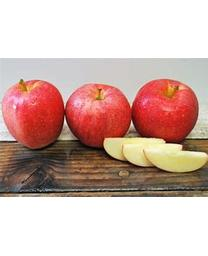apple: (64, 82, 130, 148), (131, 78, 198, 143), (2, 80, 64, 150)
